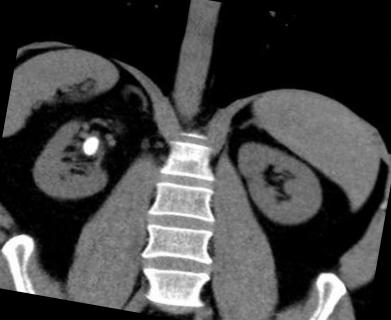Tas_Var: (79, 132, 100, 160)
